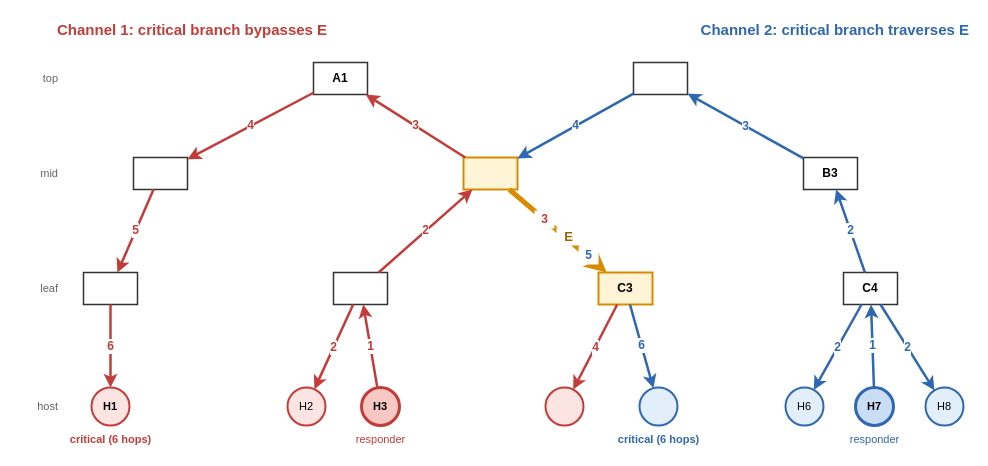
This 988x466 diagram has some shape labels left out. Each missing label, with the centre of its shape:
"A2" belongs at pixel 660 78.
"B1" belongs at pixel 160 173.
"B2" belongs at pixel 490 173.
"C1" belongs at pixel 110 288.
"C2" belongs at pixel 360 288.
"H4" belongs at pixel 564 406.
"H5" belongs at pixel 658 406.
